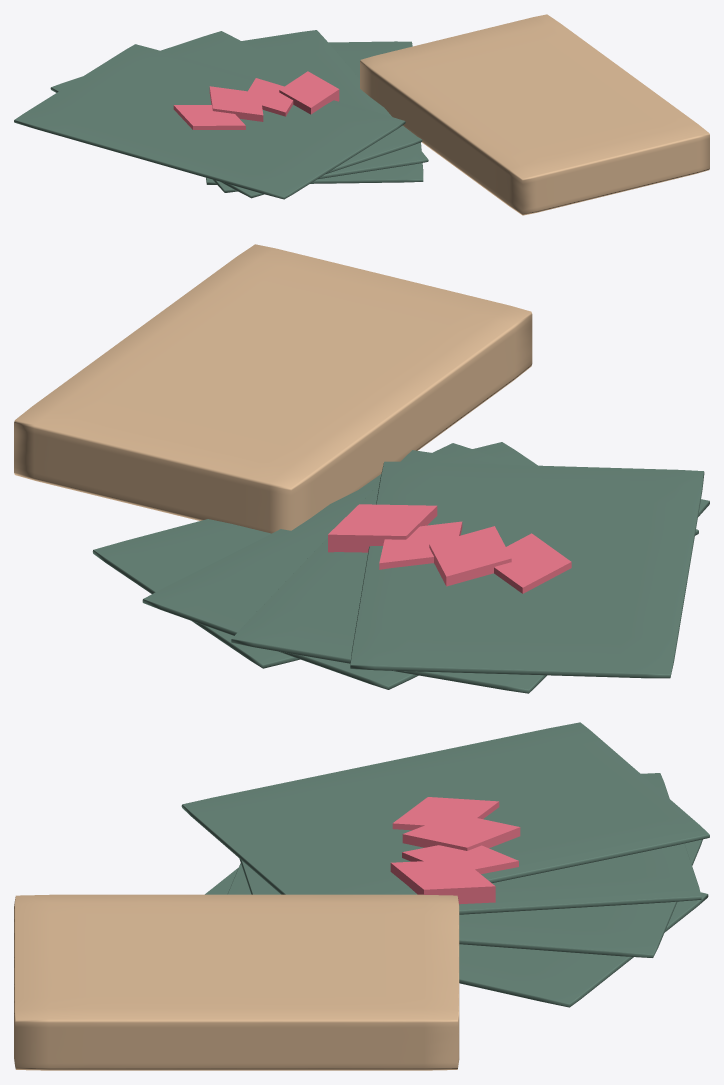
Rendered from DiceDashCards.glb.
3 views of the same model, one above another, from view 1: azimuth 30°, elevation 25°; view 2: azimuth 150°, elevation 25°; view 3: azimuth 270°, elevation 25° (orthographic). The views are drawn at different scales.
Visible parts, largest first — view 1: Back, Face, Mark; view 2: Back, Face, Mark; view 3: Back, Face, Mark.
Boxes of the visible parts, x1,y1,x2,y2 form: Back: (360, 14, 709, 215); Face: (14, 30, 428, 199); Mark: (173, 71, 339, 129); Back: (14, 244, 532, 533); Face: (92, 442, 709, 693); Mark: (328, 504, 571, 593); Back: (14, 894, 459, 1070); Face: (181, 722, 709, 1007); Mark: (390, 797, 520, 904).
Bounding box in the file's own units: 20.71 × 1.6 × 18.75.
